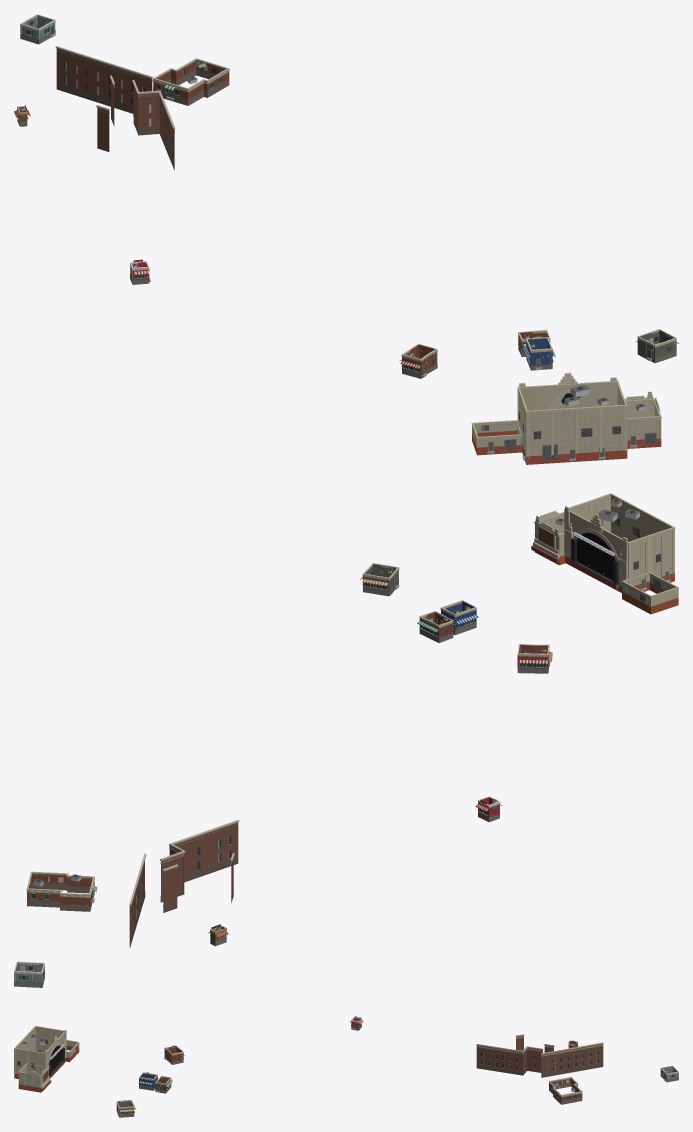
Rendered from nyc-fillers.glb.
3 views of the same model, one above another, from view 1: azimuth 30°, elevation 25°; view 2: azimuth 150°, elevation 25°; view 3: azimuth 270°, elevation 25° (orthographic). The views are drawn at different scales.
Visible parts, largest first — view 1: nyc-fillers-paint, nyc-fillers-concrete, nyc-fillers-metal, nyc-fillers-glass; view 2: nyc-fillers-paint, nyc-fillers-concrete, nyc-fillers-metal, nyc-fillers-glass; view 3: nyc-fillers-paint, nyc-fillers-concrete, nyc-fillers-glass, nyc-fillers-metal.
Part boxes in pixels (<box>): nyc-fillers-paint: <box>14,15,678,460</box>; nyc-fillers-concrete: <box>17,14,676,464</box>; nyc-fillers-metal: <box>20,24,675,459</box>; nyc-fillers-glass: <box>18,20,667,371</box>; nyc-fillers-paint: <box>14,496,678,983</box>; nyc-fillers-concrete: <box>14,493,678,987</box>; nyc-fillers-metal: <box>33,497,673,929</box>; nyc-fillers-glass: <box>21,571,548,979</box>; nyc-fillers-paint: <box>14,1016,678,1115</box>; nyc-fillers-concrete: <box>14,1016,678,1117</box>; nyc-fillers-glass: <box>120,1024,676,1113</box>; nyc-fillers-metal: <box>22,1016,664,1114</box>.
Size of the model in its own units: 86.31 by 16.59 by 261.
